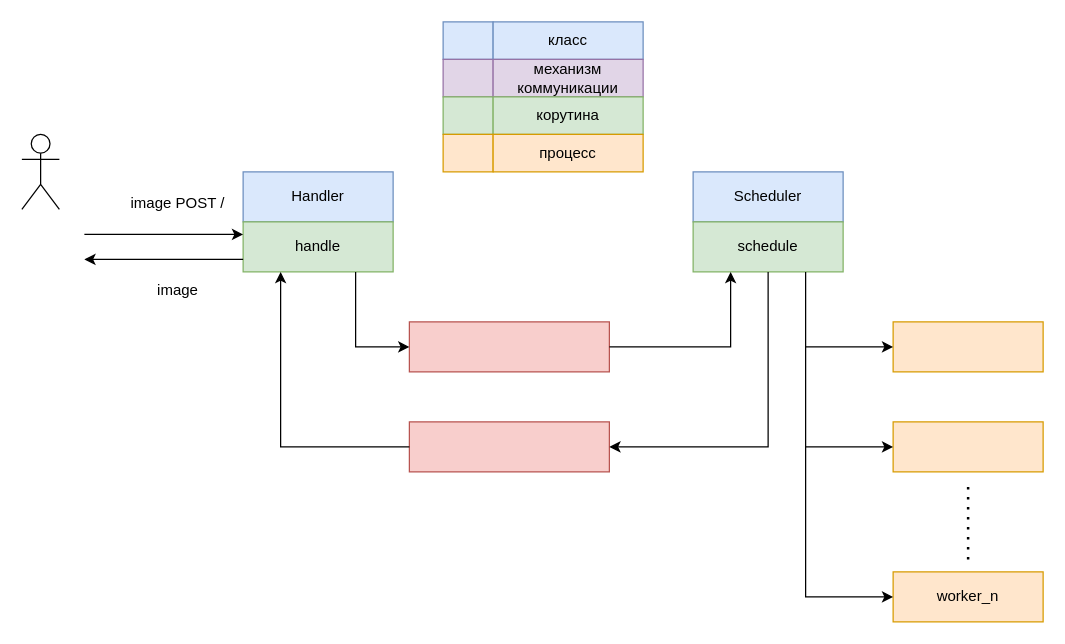
The diagram is 1065 pixels wide and 644 high, and some of its shapes have lost their labels. Here are the shapes that lost their labels. From the top down, the centre of each, then its label:
At point 40,171: "Client".
At point 508,346: "Очередь задач".
At point 967,346: "worker_1".
At point 508,446: "Очередь результатов".
At point 967,446: "worker_2".
